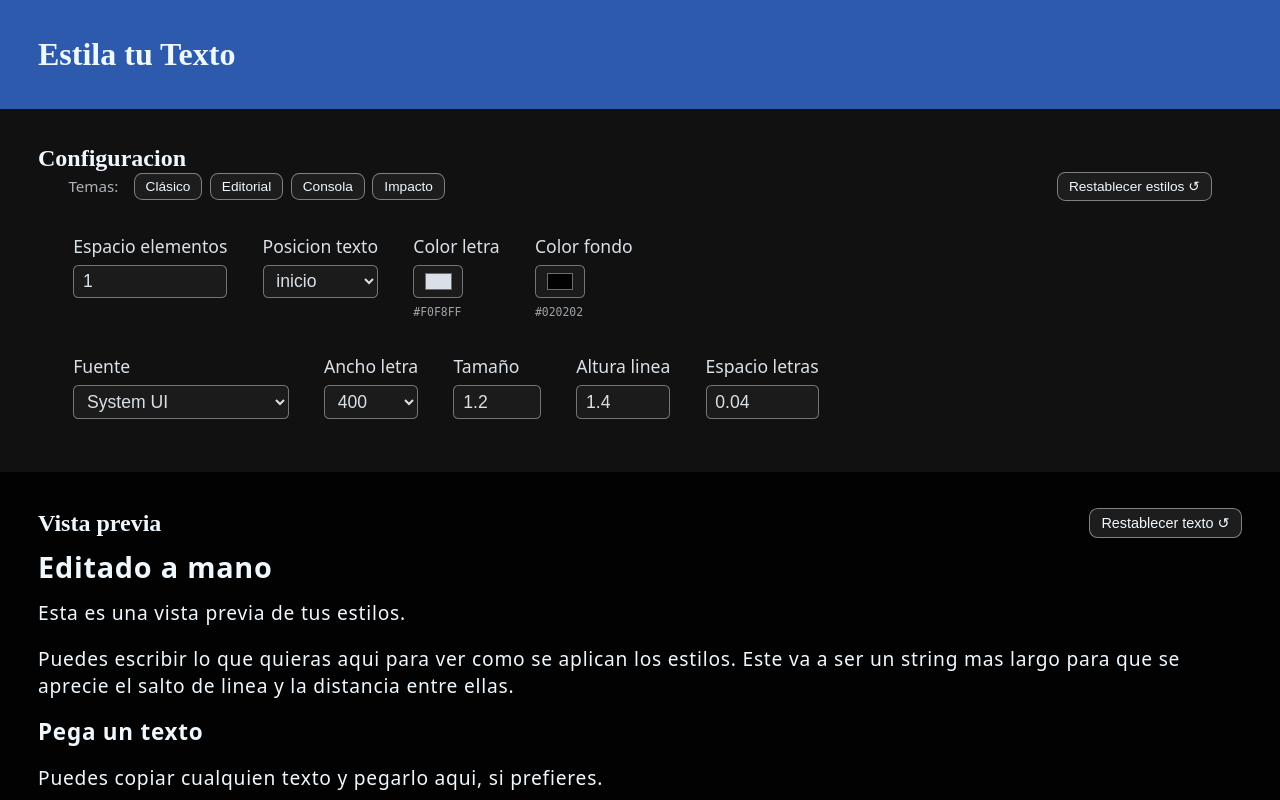
Test: botón restablecer texto › restablece el texto en el preview Y en el snippet
Click the button "Restablecer texto ↺".
click(1165, 523)  # box [1089, 508, 1242, 538]
(page scrolled)
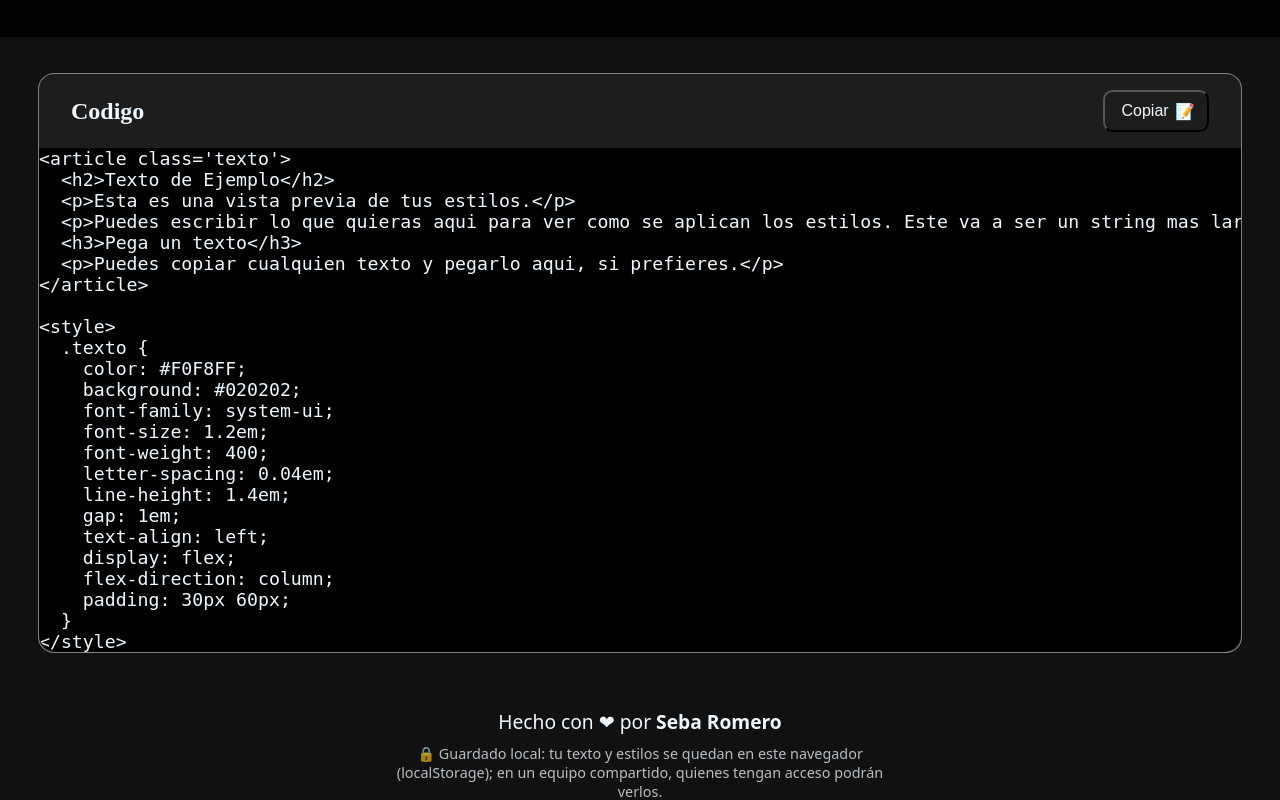
Expected: the text "Editado a mano" is gone, [39, 148, 1241, 652]
